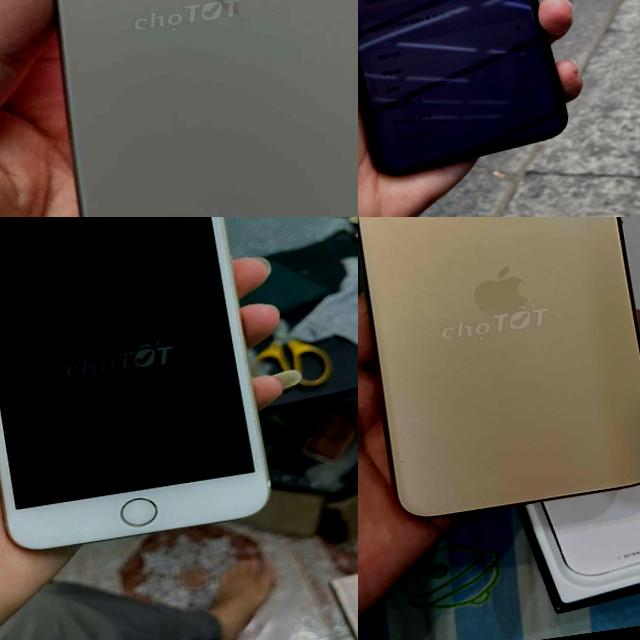screen_defect: (387, 1, 428, 35), (366, 86, 404, 120), (358, 10, 389, 47), (462, 133, 506, 157), (401, 79, 430, 113), (476, 45, 508, 74), (426, 74, 458, 100), (504, 120, 534, 144), (456, 61, 482, 88), (503, 36, 529, 61), (532, 110, 564, 130), (526, 28, 548, 51), (427, 0, 456, 14), (454, 0, 482, 8)
